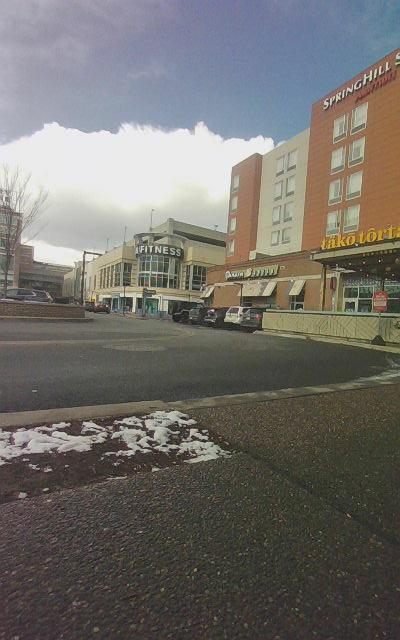curb: (0, 378, 399, 639)
road: (0, 313, 399, 412)
